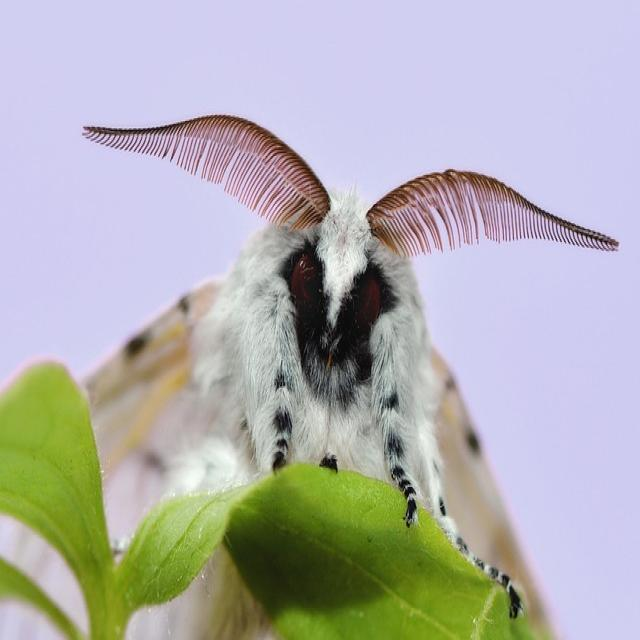butterfly: (85, 115, 618, 630)
